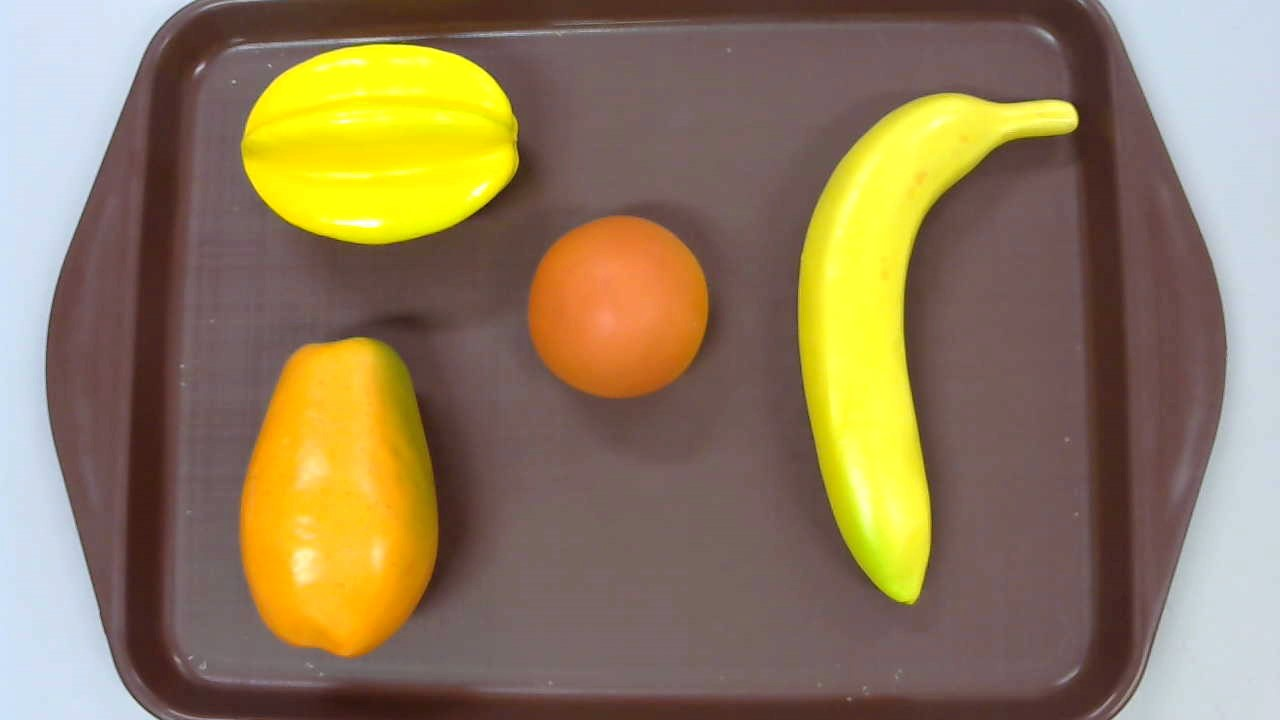banana: (796, 92, 1078, 605)
bun: (528, 216, 710, 402)
papya: (238, 336, 441, 659)
star fruit: (241, 44, 519, 245)
